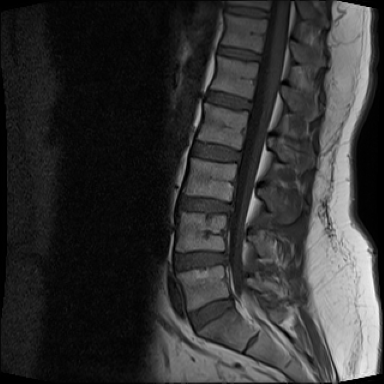Lumbar Disc Bulge (LDB): (182, 285, 239, 336), (167, 239, 232, 279), (172, 186, 241, 220)
Normal IVD: (184, 137, 244, 166), (196, 87, 254, 114), (208, 41, 264, 66), (218, 5, 271, 18)
